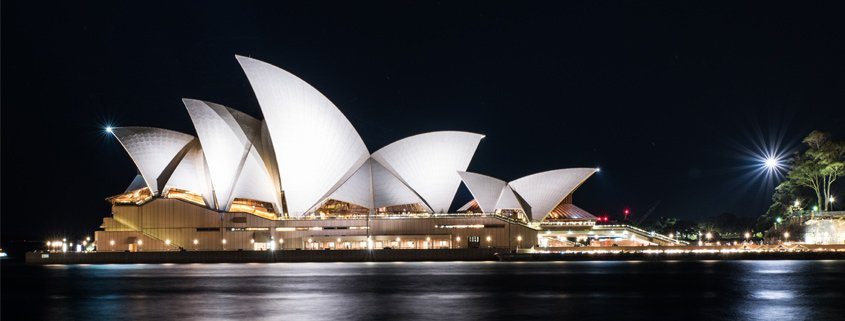opera house: (31, 29, 694, 265)
